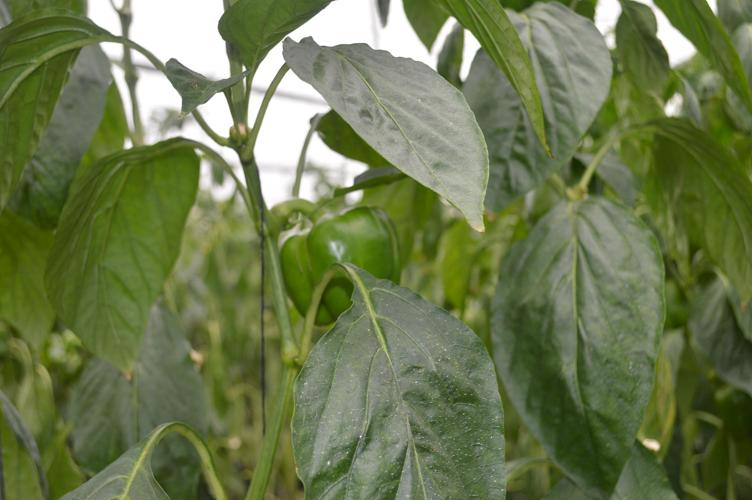BellPepper: (277, 204, 417, 328)
